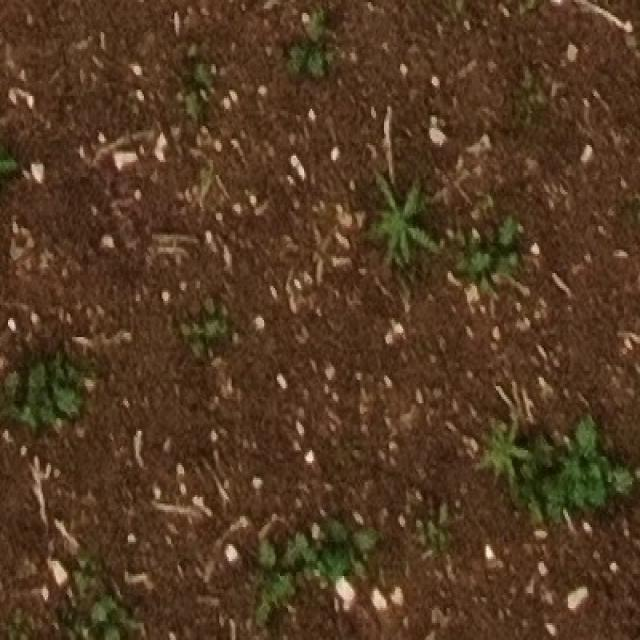cirse: (366, 174, 436, 280), (376, 174, 444, 280), (377, 165, 445, 268), (481, 420, 548, 522), (478, 381, 540, 483), (453, 416, 516, 514)
